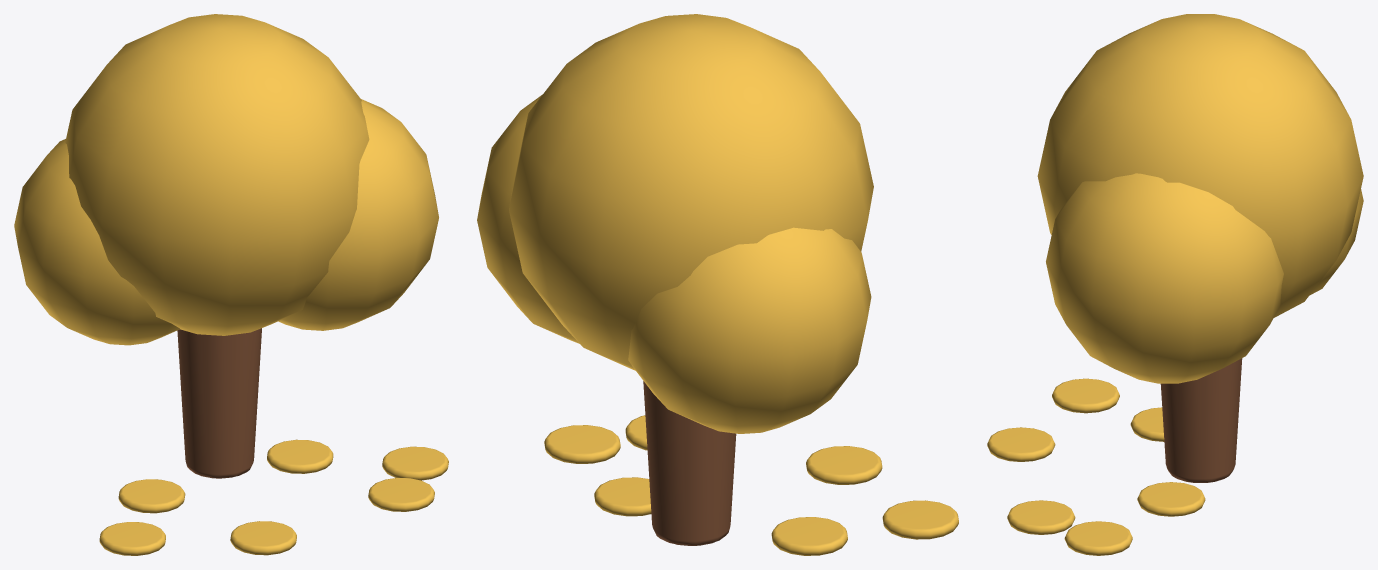
Rendered from corner_windfall.glb.
3 renders of one model, left to right at view 1: azimuth 30°, elevation 25°; view 2: azimuth 150°, elevation 25°; view 3: azimuth 270°, elevation 25°, orthographic. The views are drawn at different scales.
Visible parts, largest first — view 1: Cone; view 2: Cone; view 3: Cone.
Part boxes in pixels (x1,y1,x2,y2): Cone: (14, 14, 448, 555); Cone: (477, 14, 958, 555); Cone: (987, 14, 1363, 555).
Bounding box in the file's own units: 0.6164 × 0.72 × 0.5542.
